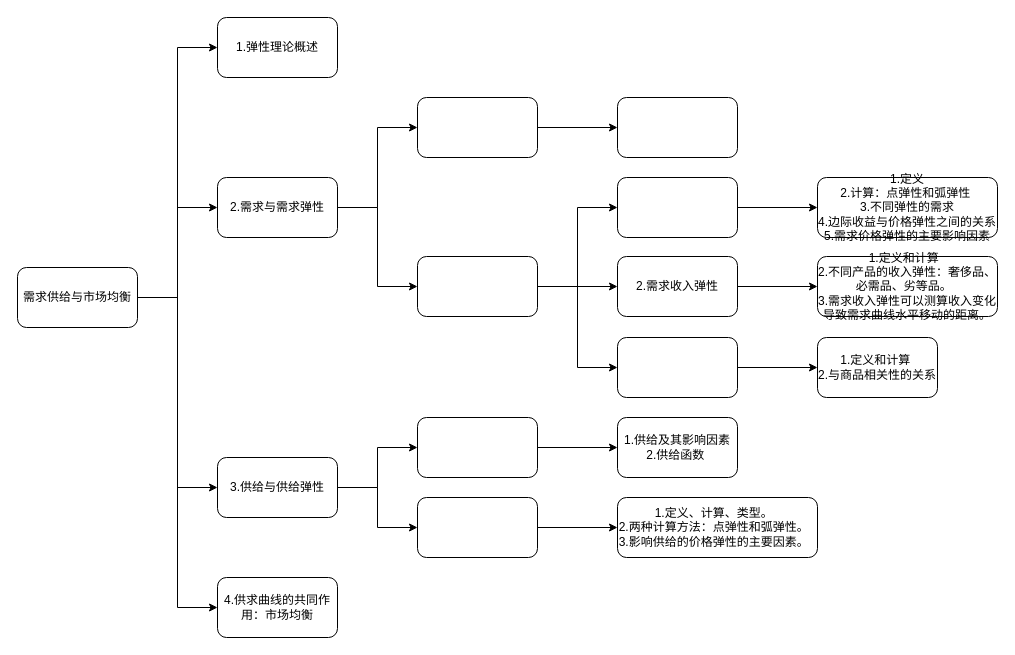
This 1015x655 diagram has some shape labels left out. The shapes that lost their labels are listed below. From the top down, each one's centre as x and y in pixels, then its label:
At point (477, 127): "1.需求表、需求函数与需求曲线".
At point (677, 207): "1.需求价格弹性".
At point (477, 286): "2.需求弹性".
At point (677, 367): "3.需求交叉弹性".
At point (477, 447): "1.供给".
At point (477, 527): "2.供给价格弹性".
